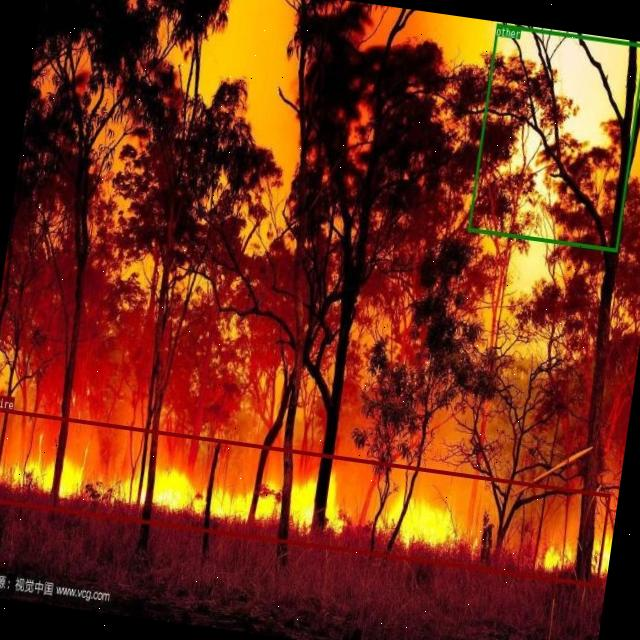fire: (0, 407, 610, 586)
